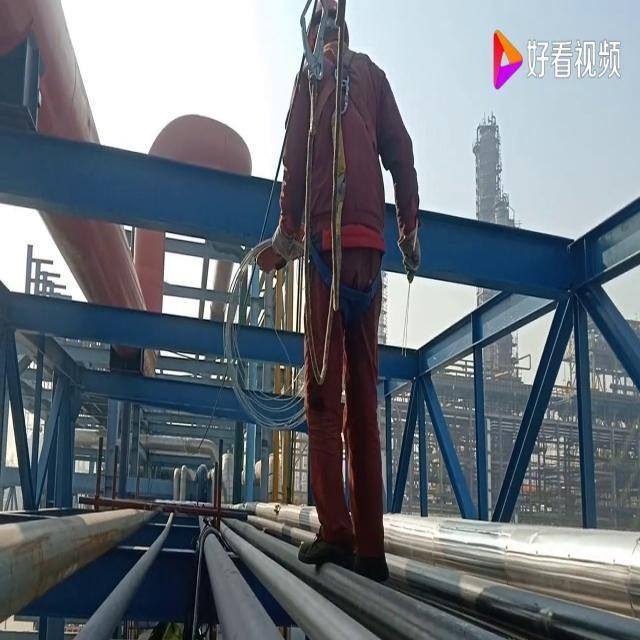Arnes_seguridad: (302, 38, 382, 164)
